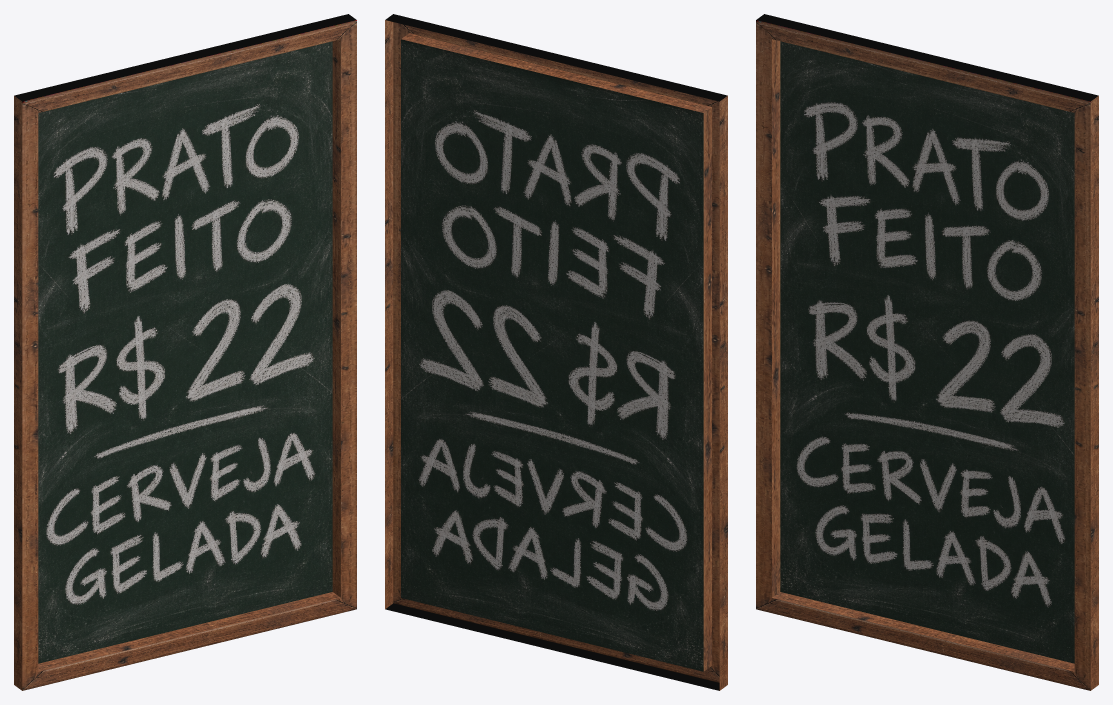
Rendered from cardapio_lousa.glb.
3 renders of one model, left to right at view 1: azimuth 30°, elevation 25°; view 2: azimuth 150°, elevation 25°; view 3: azimuth 330°, elevation 25°, orthographic.
Parts seen in each view (by area): view 1: Plane; view 2: Plane; view 3: Plane.
Boxes of the visible parts, x1=… form: Plane: x1=14, y1=14, x2=356, y2=690; Plane: x1=385, y1=14, x2=727, y2=690; Plane: x1=756, y1=14, x2=1098, y2=690.
Bounding box in the file's own units: 0.5904 × 0.9938 × 0.0252.
1 material, 1 textured.
